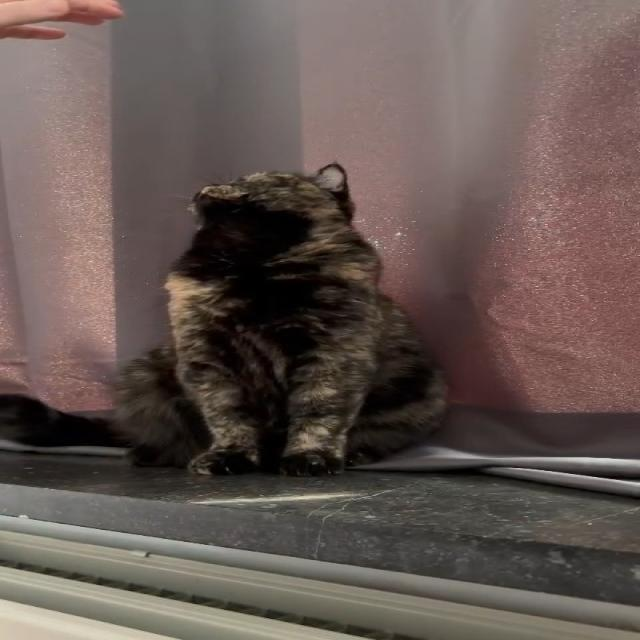authorized: (109, 161, 451, 477)
